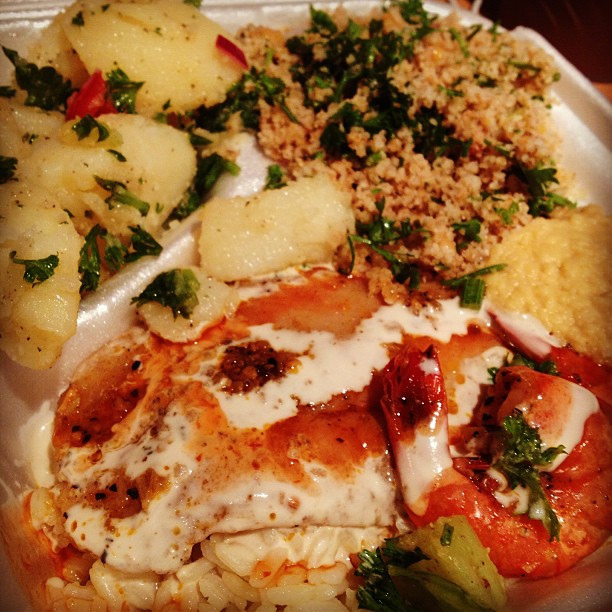boiled potatoes: (30, 112, 192, 236), (62, 3, 249, 105), (1, 184, 82, 373), (192, 172, 350, 262)
fried egg: (88, 278, 469, 558)
plain rice: (26, 532, 386, 612)
